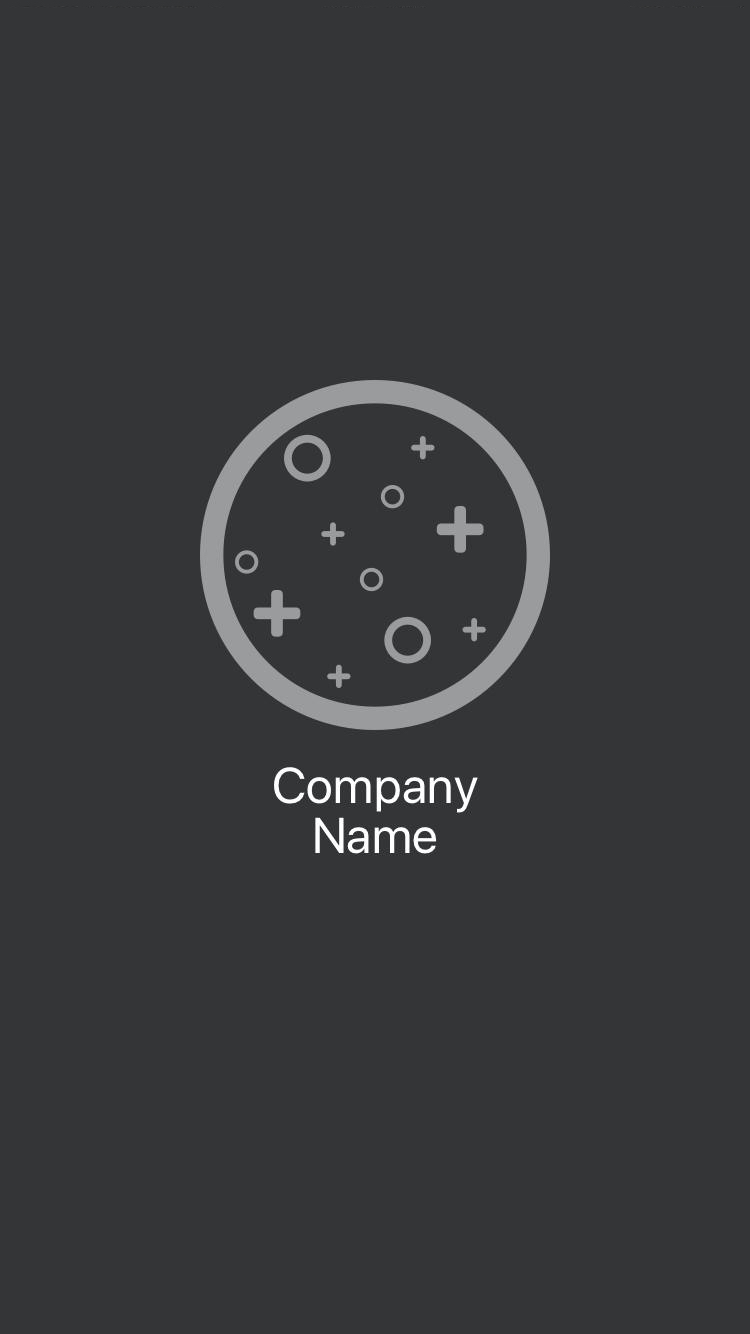Image: (200, 380, 553, 733)
Text: (271, 765, 482, 855)
